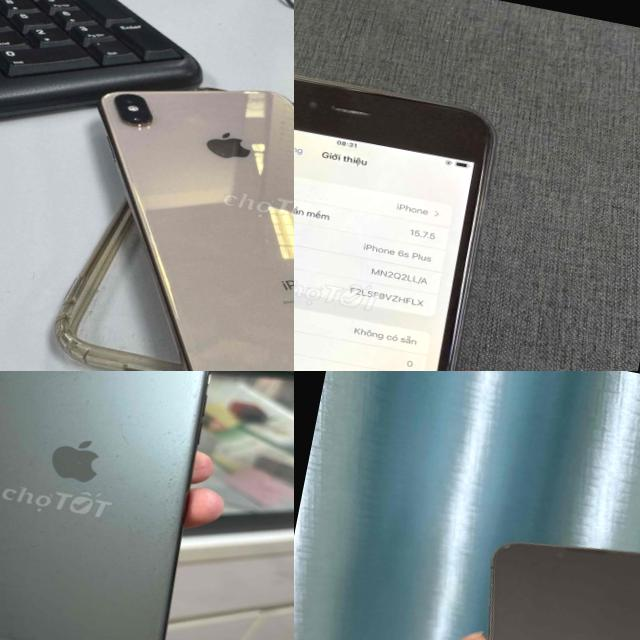scratch: (127, 412, 210, 640), (116, 461, 162, 585), (490, 530, 555, 572), (0, 371, 99, 388), (110, 409, 137, 462), (69, 371, 125, 396), (23, 540, 40, 556)
